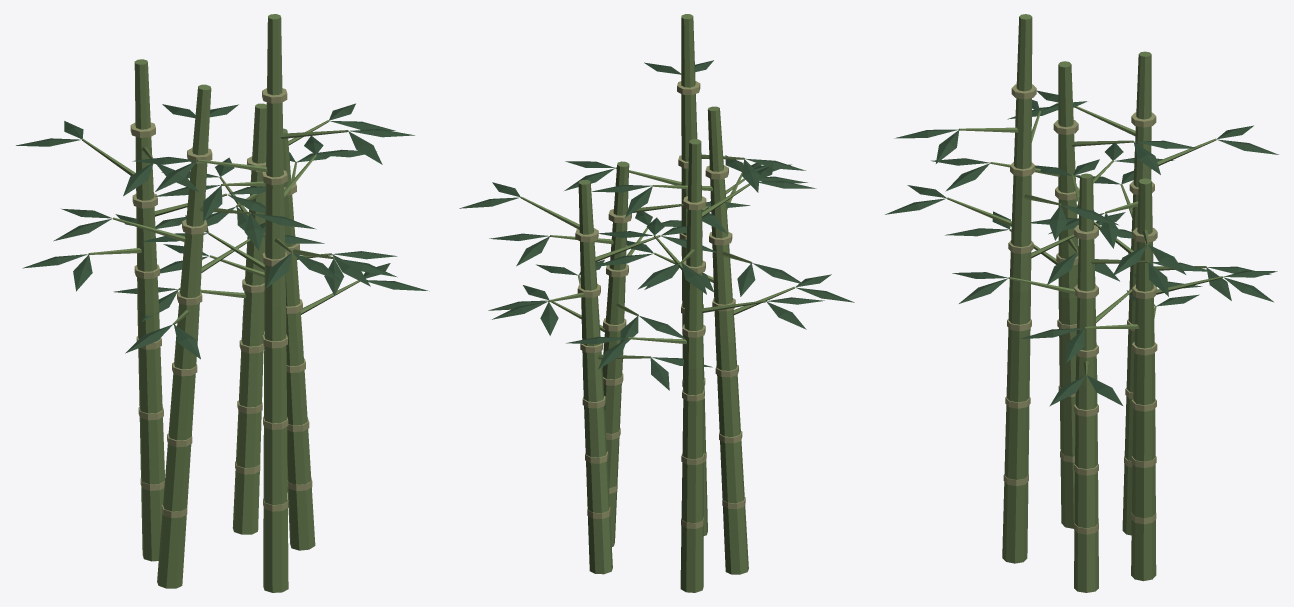
Rendered from Plant_Feature_Forest_BambooGrove_001.glb.
3 views of the same model, side by side, from view 1: azimuth 30°, elevation 25°; view 2: azimuth 150°, elevation 25°; view 3: azimuth 270°, elevation 25° (orthographic). The views are drawn at different scales.
Parts seen in each view (by area): view 1: Plant_Feature_Forest_BambooGrove_001; view 2: Plant_Feature_Forest_BambooGrove_001; view 3: Plant_Feature_Forest_BambooGrove_001.
Part boxes in pixels (left/top/right/bottom): Plant_Feature_Forest_BambooGrove_001: left=16, top=14, right=429, bottom=592; Plant_Feature_Forest_BambooGrove_001: left=459, top=14, right=854, bottom=592; Plant_Feature_Forest_BambooGrove_001: left=885, top=14, right=1278, bottom=592.
Size of the model in its own units: 3.32 by 5.01 by 3.3.
